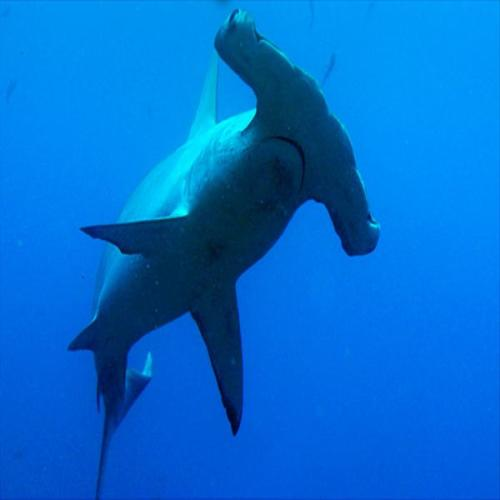shark-endangered: (66, 10, 382, 500)
